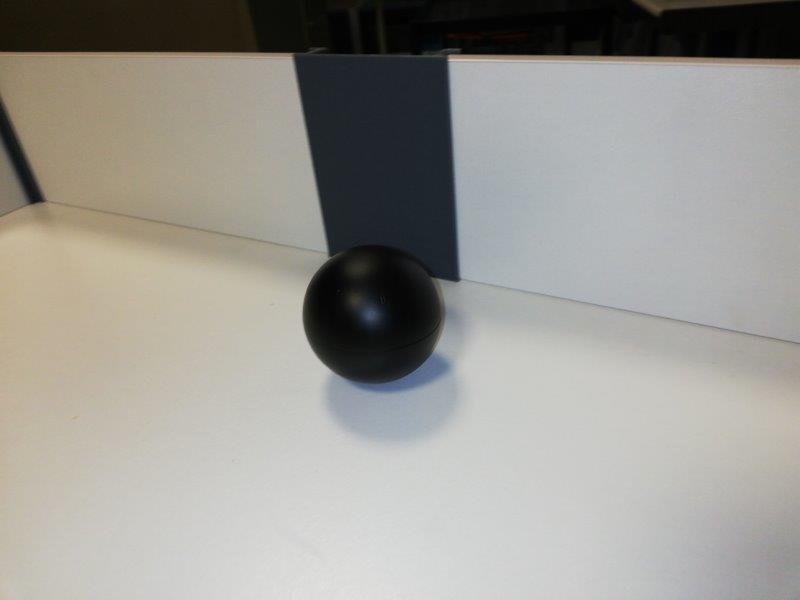nera: (300, 243, 443, 384)
